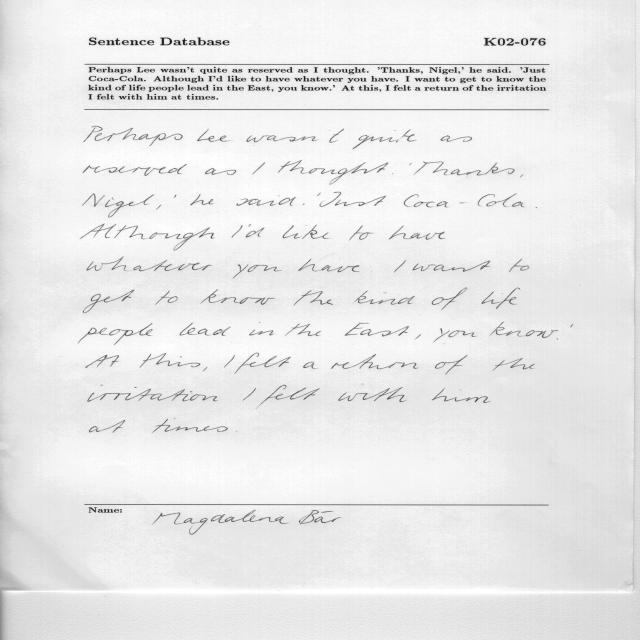word: (81, 224, 215, 251), (278, 161, 388, 185), (88, 385, 217, 402), (84, 126, 182, 146), (87, 257, 212, 272), (82, 194, 154, 218), (79, 323, 153, 345), (404, 194, 517, 208), (256, 385, 320, 409), (414, 161, 515, 176), (247, 128, 344, 143), (331, 354, 419, 369), (353, 130, 417, 150), (83, 164, 187, 176), (234, 353, 291, 374), (201, 289, 275, 305), (84, 290, 135, 313), (490, 321, 558, 338), (152, 419, 228, 433), (338, 387, 407, 402), (320, 192, 387, 207), (140, 353, 200, 368), (345, 323, 409, 337), (432, 388, 491, 403), (354, 291, 415, 305), (413, 261, 490, 272), (482, 288, 520, 309), (299, 259, 360, 272), (389, 226, 445, 240), (432, 288, 467, 310), (233, 265, 282, 279), (180, 323, 231, 336), (236, 195, 296, 206), (283, 225, 329, 239), (435, 355, 468, 374), (294, 290, 333, 306), (434, 328, 476, 342), (493, 358, 535, 371), (90, 420, 126, 433), (85, 355, 119, 368), (285, 324, 321, 336), (198, 129, 229, 142), (349, 226, 373, 241), (155, 290, 178, 305), (249, 323, 274, 336), (190, 194, 214, 205), (509, 259, 529, 272), (246, 224, 265, 237), (205, 168, 236, 175), (441, 136, 472, 142), (243, 388, 256, 401), (252, 163, 265, 175), (394, 260, 406, 273), (232, 225, 243, 238), (224, 355, 235, 368), (303, 362, 318, 369), (512, 202, 525, 207), (415, 335, 421, 340), (156, 205, 161, 210), (317, 192, 321, 196), (203, 367, 207, 371), (570, 324, 573, 328), (520, 174, 523, 177), (409, 163, 412, 165), (174, 195, 176, 198), (303, 203, 305, 205), (557, 338, 558, 340), (392, 173, 393, 174), (371, 271, 372, 272), (174, 418, 175, 419)
